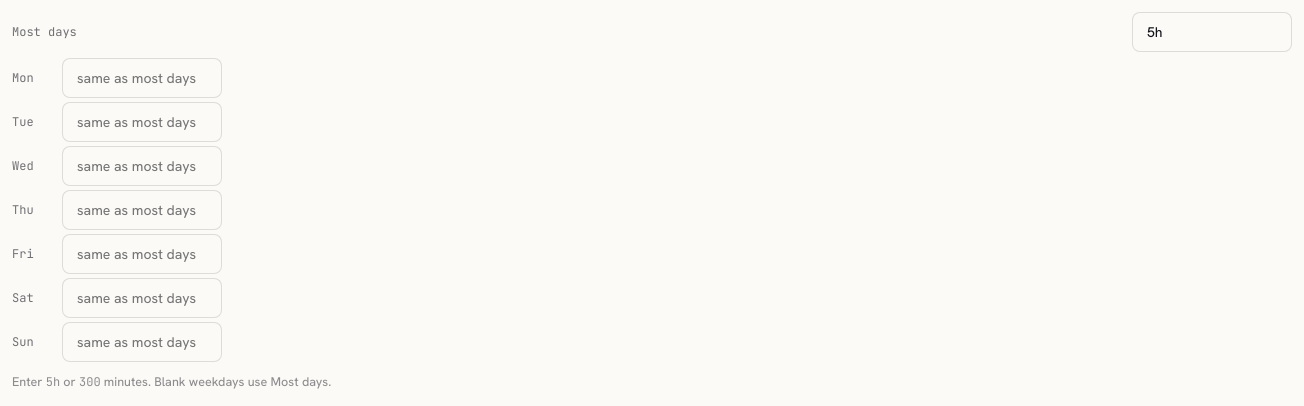
Test: <CapacitySection> › SNAPS BACK on a line it cannot read, rather than clearing
Replace the text in the field named "Working time for the default working day" with "soon": [1212, 32] box [1132,12,1292,52]
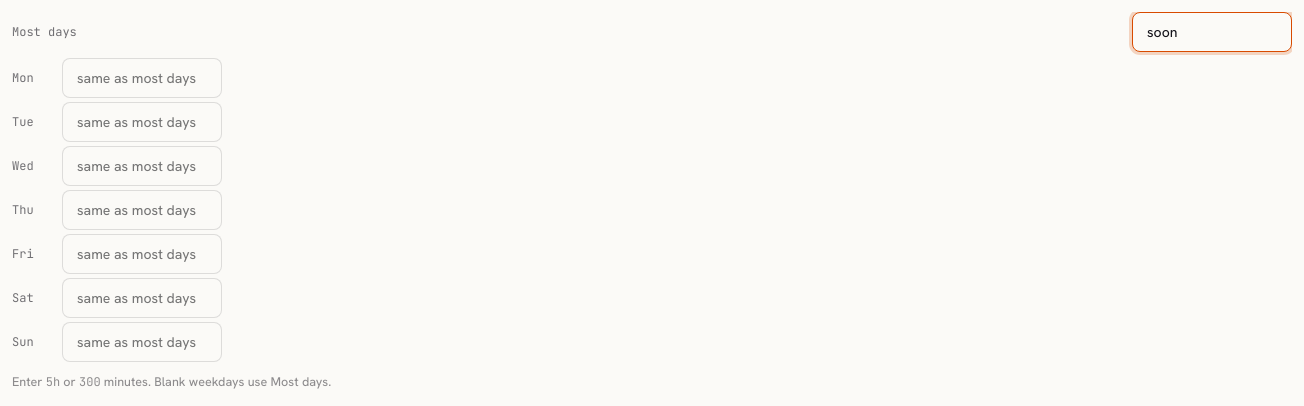
Press Tab
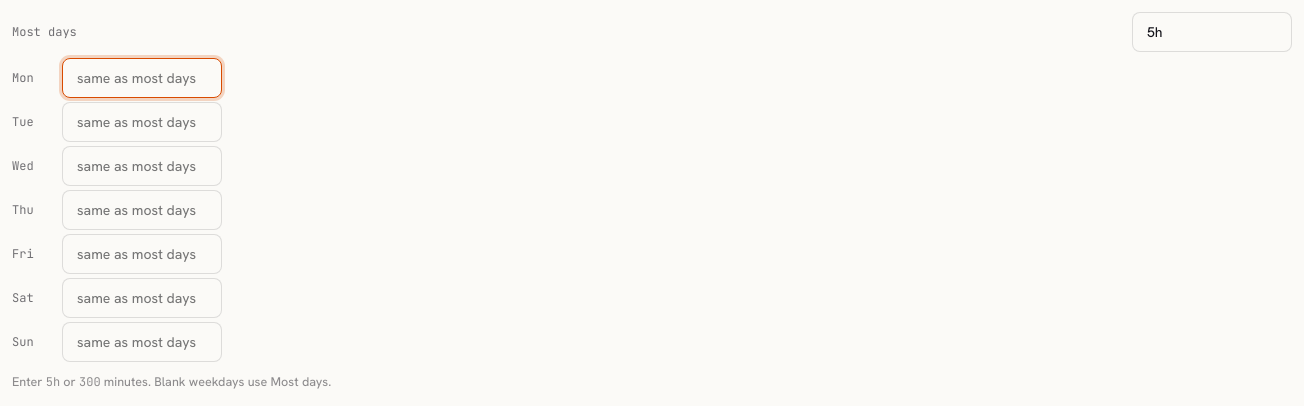
expect the field named "Working time for the default working day" holds "5h": met, box [1132,12,1292,52]
